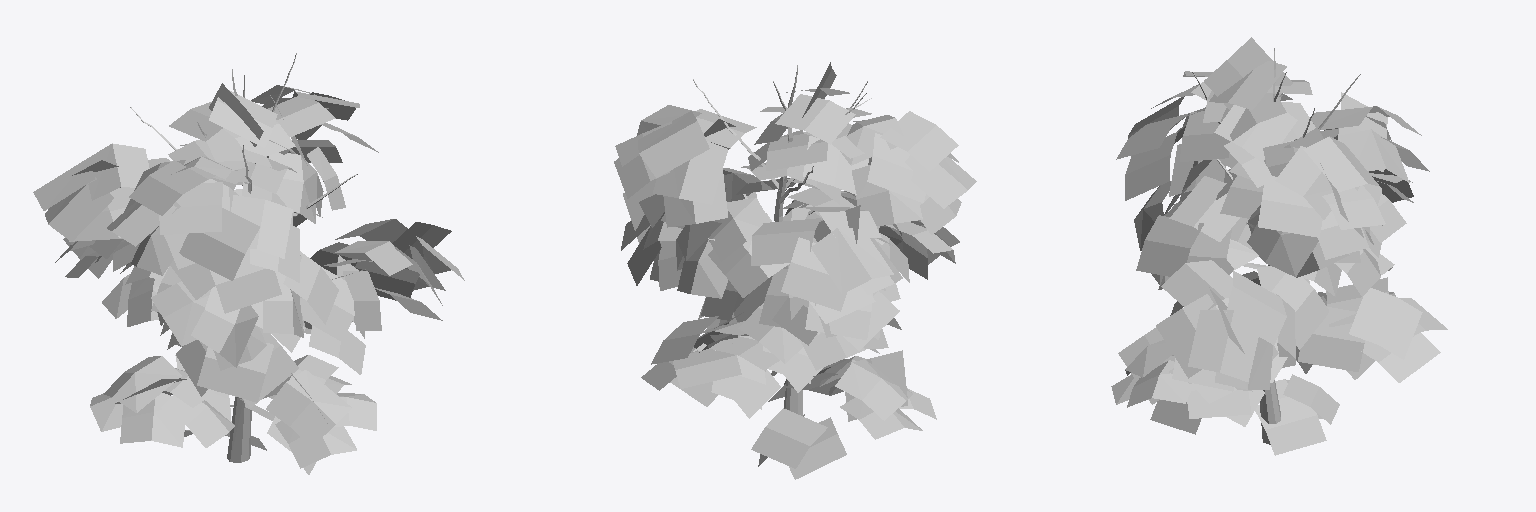
Rendered from tree1b_lod1.obj.
3 views of the same model, side by side, from view 1: azimuth 30°, elevation 25°; view 2: azimuth 150°, elevation 25°; view 3: azimuth 270°, elevation 25° (orthographic).
Parts seen in each view (by area): view 1: leaves 0.0 0.[number redacted] 0.0 0 0 0 0.[number redacted] 0.[number redacted], bark -0.[number redacted] -0.[number redacted] 0.[number redacted]; view 2: leaves 0.0 0.[number redacted] 0.0 0 0 0 0.[number redacted] 0.[number redacted], bark -0.[number redacted] -0.[number redacted] 0.[number redacted]; view 3: leaves 0.0 0.[number redacted] 0.0 0 0 0 0.[number redacted] 0.[number redacted], bark -0.[number redacted] -0.[number redacted] 0.[number redacted].
Boxes of the visible parts, x1=… form: leaves 0.0 0.[number redacted] 0.0 0 0 0 0.[number redacted] 0.[number redacted]: x1=33, y1=83, x2=464, y2=474; bark -0.[number redacted] -0.[number redacted] 0.[number redacted]: x1=130, y1=53, x2=357, y2=462; leaves 0.0 0.[number redacted] 0.0 0 0 0 0.[number redacted] 0.[number redacted]: x1=614, y1=62, x2=976, y2=479; bark -0.[number redacted] -0.[number redacted] 0.[number redacted]: x1=693, y1=65, x2=871, y2=415; leaves 0.0 0.[number redacted] 0.0 0 0 0 0.[number redacted] 0.[number redacted]: x1=1111, y1=37, x2=1447, y2=455; bark -0.[number redacted] -0.[number redacted] 0.[number redacted]: x1=1192, y1=48, x2=1360, y2=444.
Size of the model in its own units: 0.9227 by 1 by 0.7829.